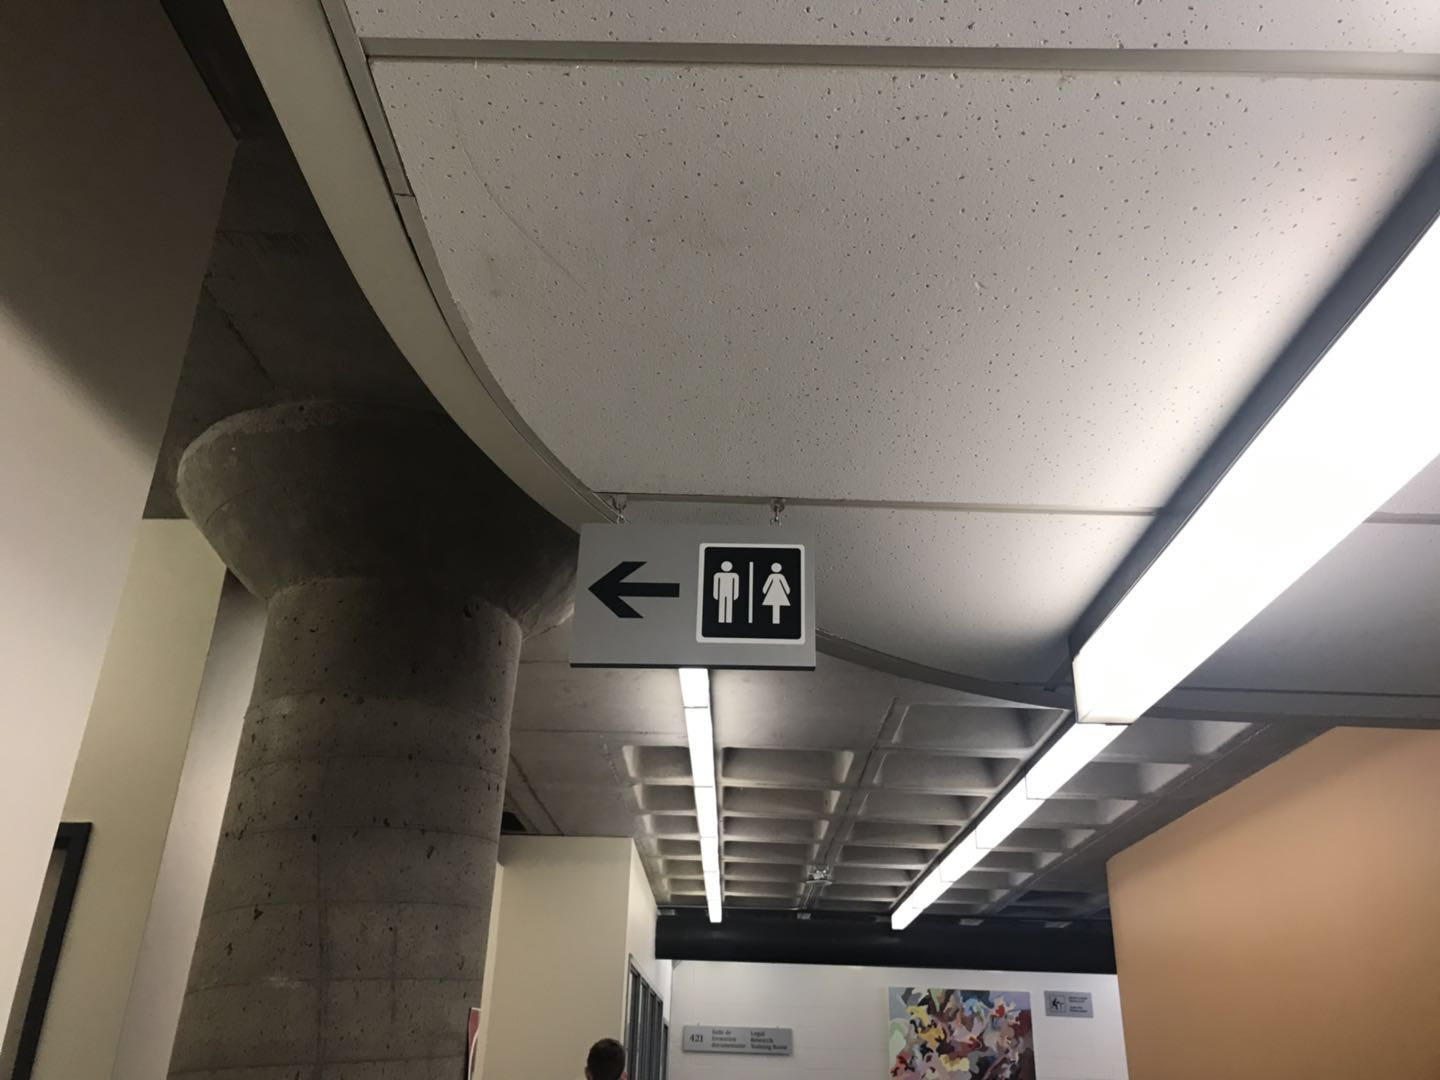sign: (569, 525, 816, 669), (679, 1027, 793, 1057), (1045, 990, 1093, 1016)
